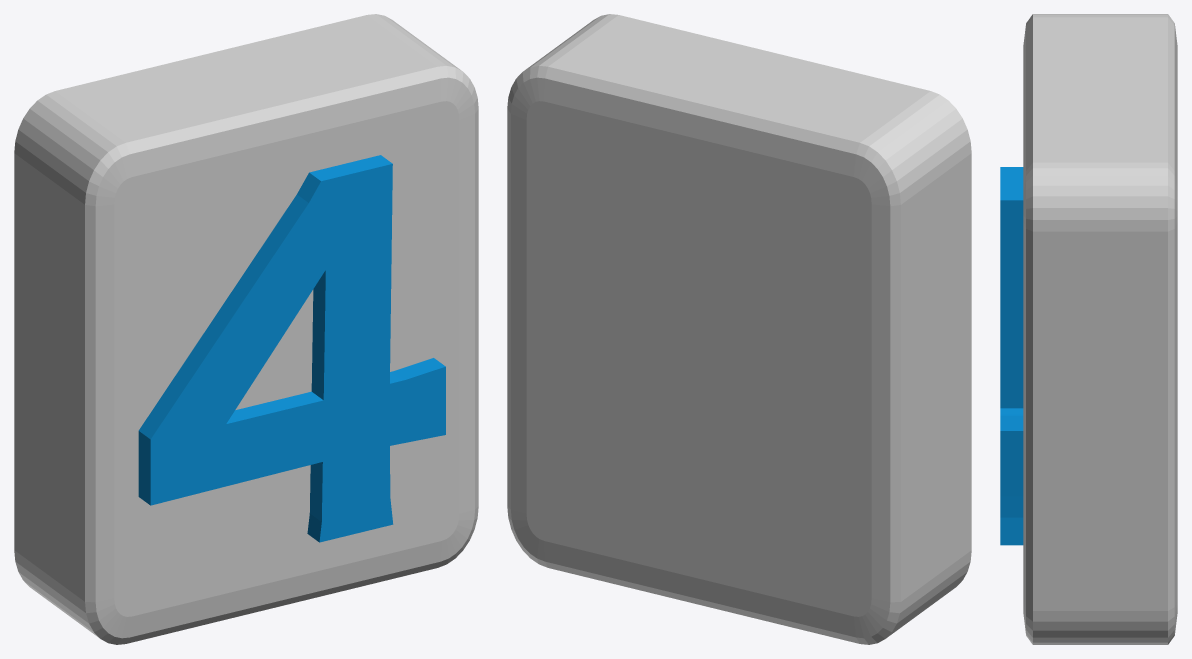
3 views of the same model, side by side, from view 1: azimuth 30°, elevation 25°; view 2: azimuth 150°, elevation 25°; view 3: azimuth 270°, elevation 25° (orthographic). The views are drawn at different scales.
Visible parts, largest first — view 1: Box4; view 2: Box4; view 3: Box4.
Part boxes in pixels (x1=…): Box4: x1=14, y1=14, x2=478, y2=644; Box4: x1=507, y1=14, x2=971, y2=644; Box4: x1=1000, y1=14, x2=1177, y2=644.
Bounding box in the file's own units: 56.15 × 68.31 × 22.91.
